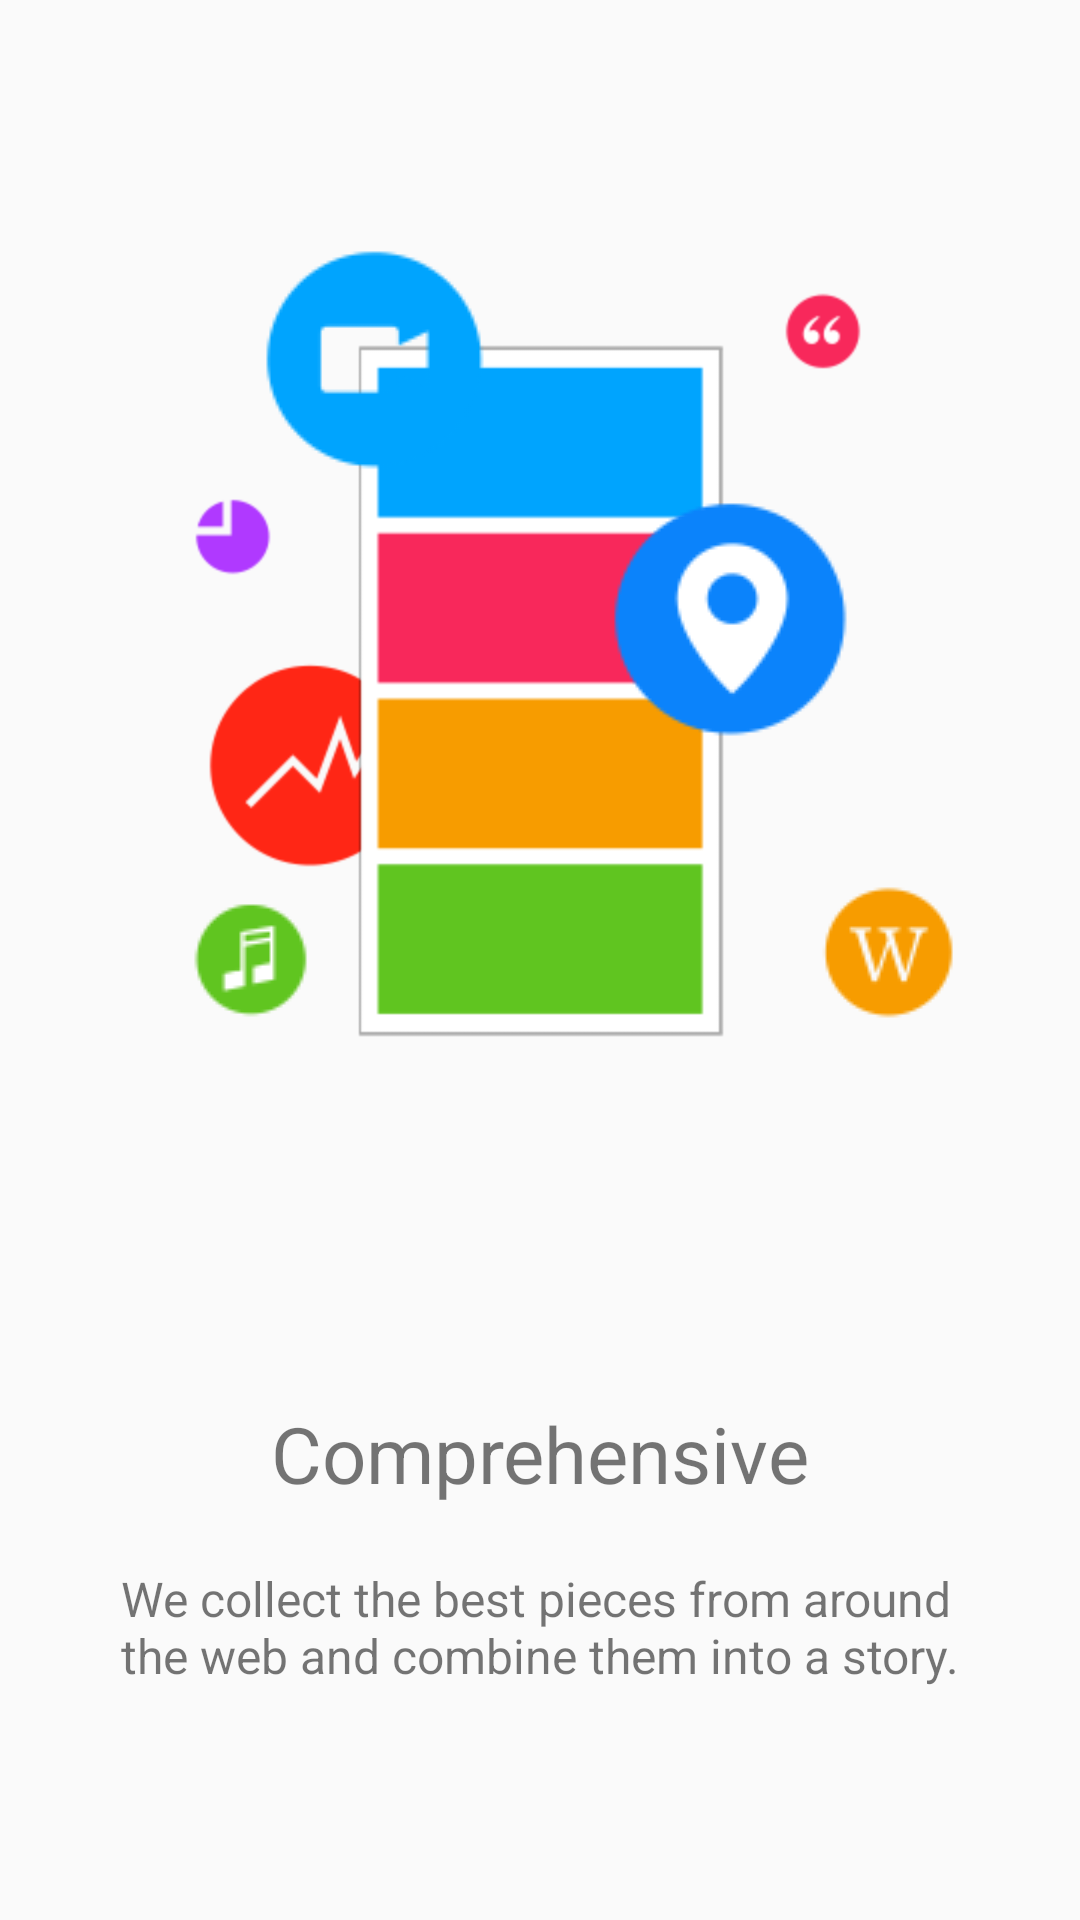

Icons on this 1080x1920 Android screen, each with the point to tap as point (x, y):
onboarding atom infographic: point (233, 536)
onboarding atom quote: point (823, 331)
onboarding atom sound: point (250, 960)
